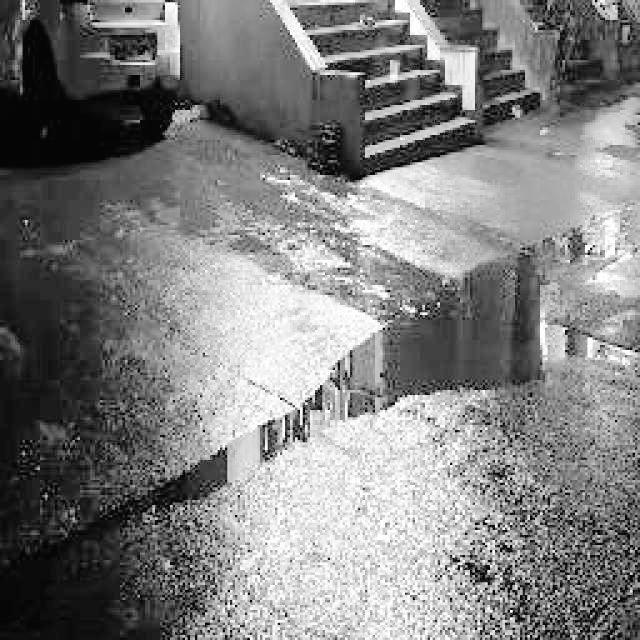Pothole: (93, 203, 638, 541)
